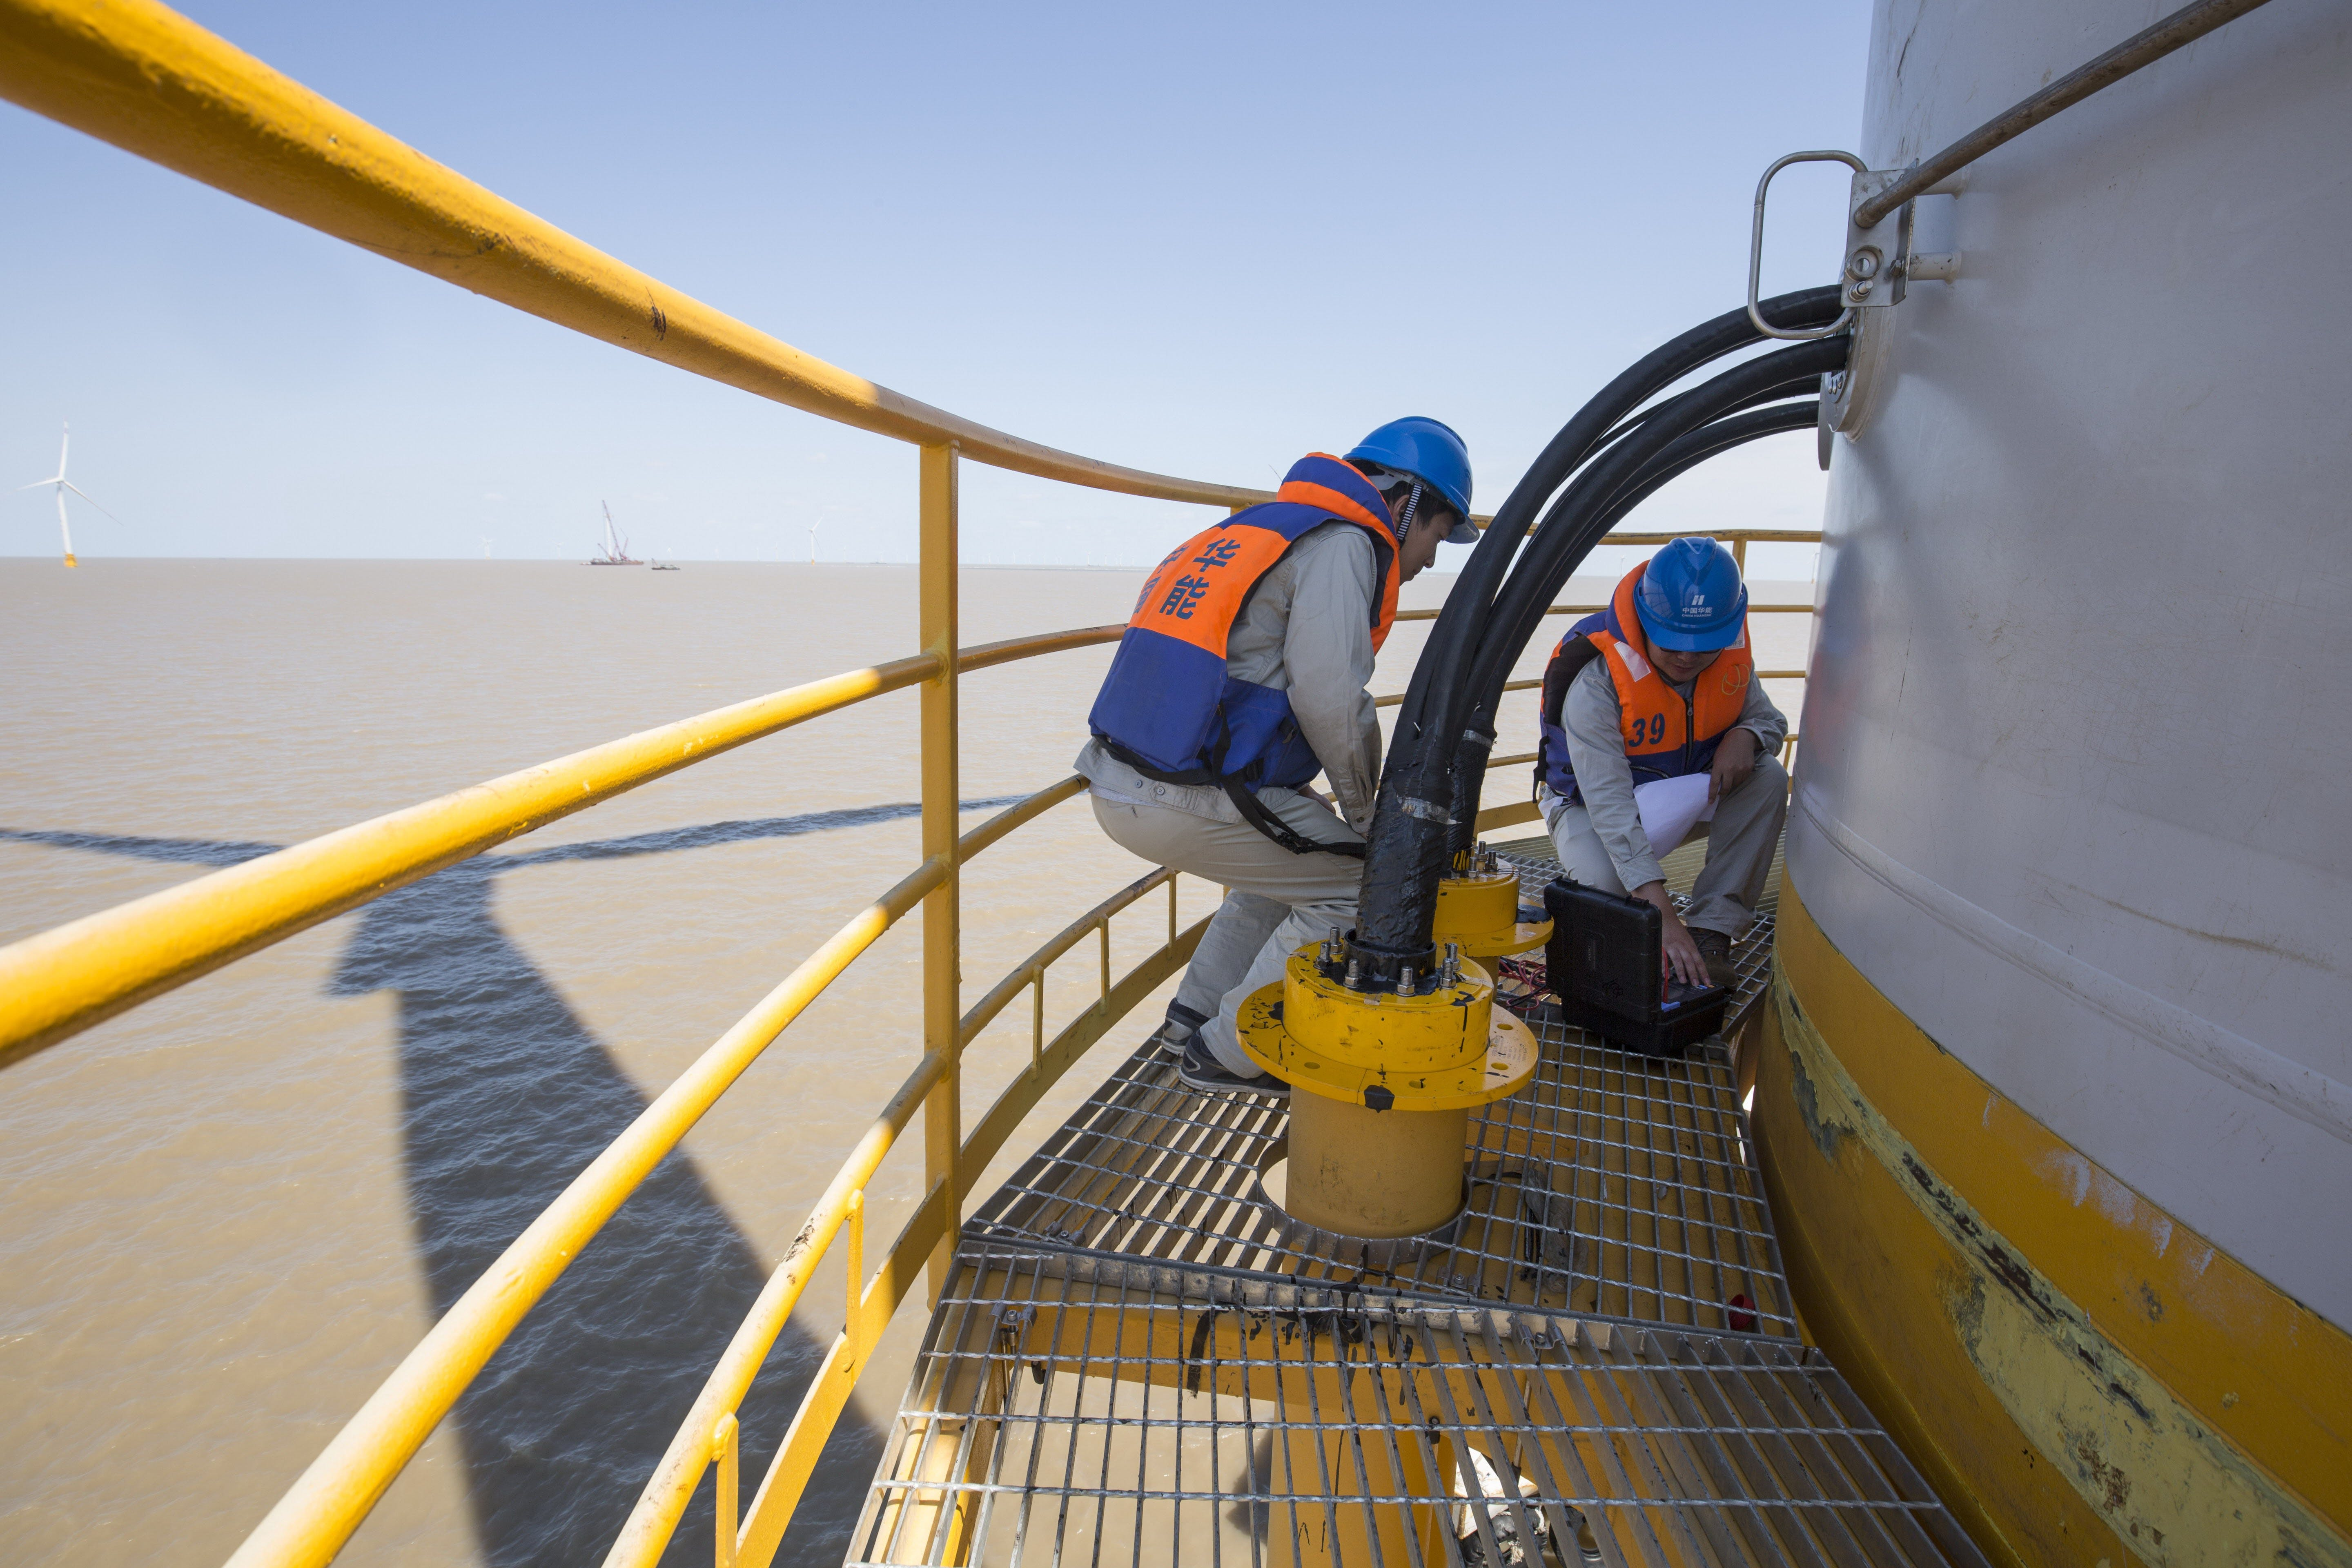Hard Hat: (1333, 385, 1489, 546), (1626, 513, 1760, 656)
Safety Vest: (1080, 401, 1396, 805), (1549, 553, 1767, 807)
